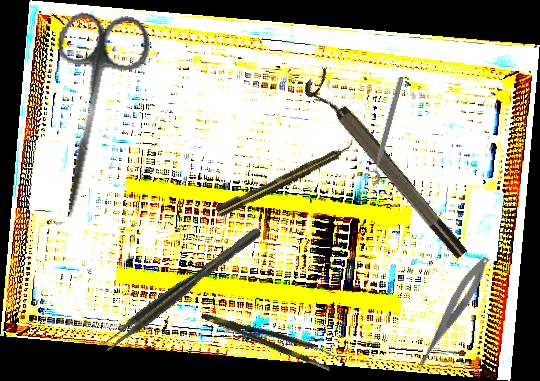Fixation Ring: (300, 68, 471, 268), (361, 74, 407, 187)
Handpiece: (213, 138, 359, 220)
Iris Scissors: (27, 5, 155, 226)
Micro Scissor: (409, 252, 494, 379)
Tissue Forceps: (97, 226, 267, 355), (199, 301, 337, 372)
